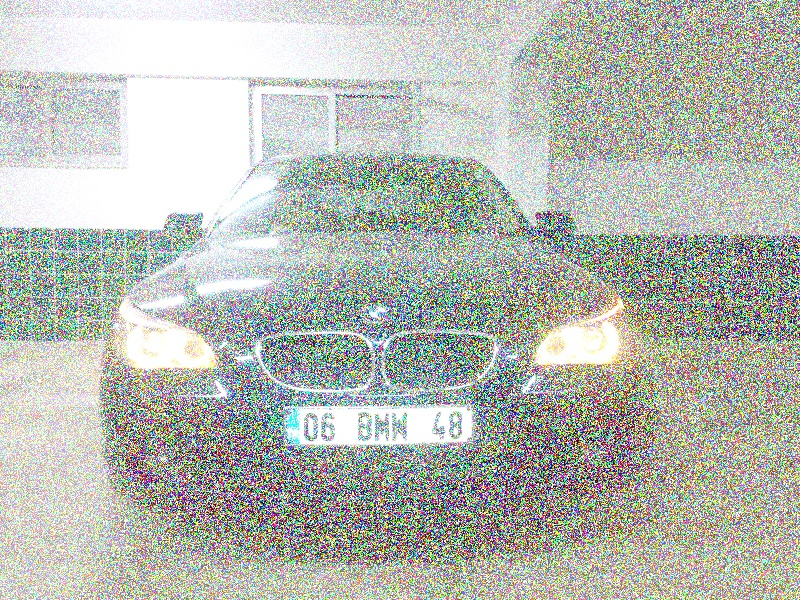plaka: (295, 398, 472, 447)
